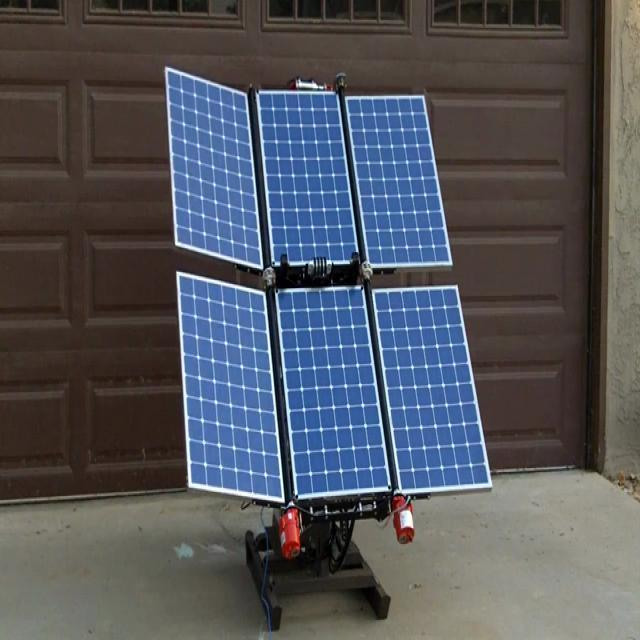Normal Solar Panel: (178, 273, 284, 503), (278, 289, 391, 499), (376, 289, 491, 495), (167, 67, 263, 269), (347, 97, 452, 266), (258, 91, 358, 263)
